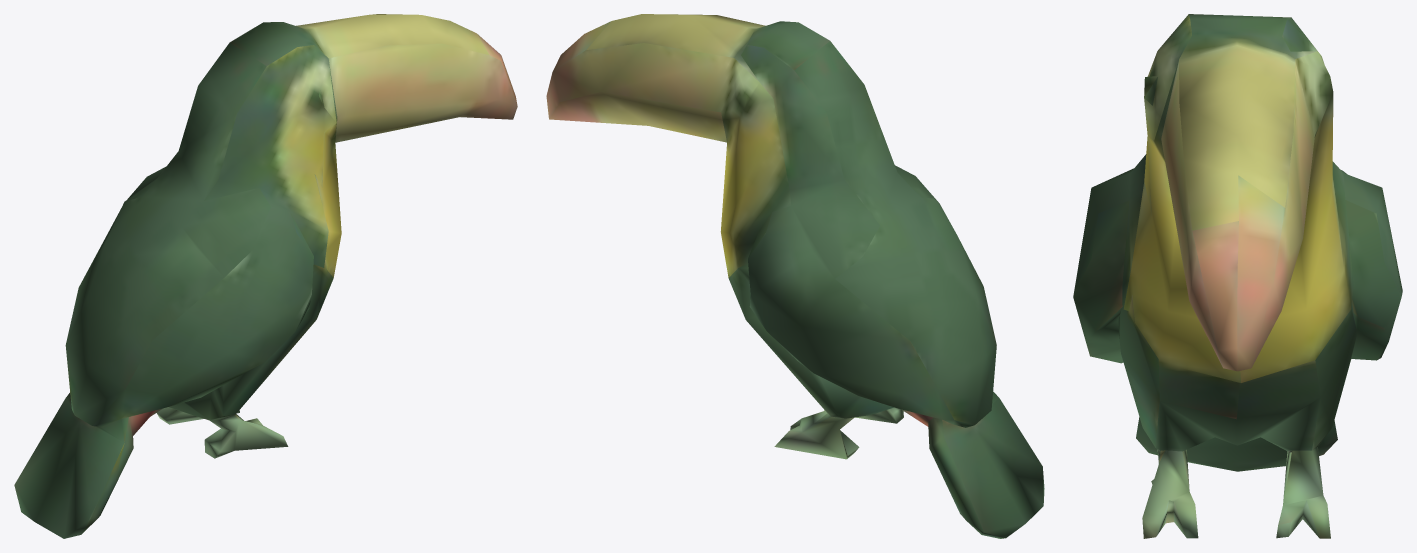
The model's file is keel_billed_toucan-BKhVLpuT.glb.
3 views of the same model, side by side, from view 1: azimuth 30°, elevation 25°; view 2: azimuth 150°, elevation 25°; view 3: azimuth 270°, elevation 25° (orthographic). The views are drawn at different scales.
Visible parts, largest first — view 1: geom0; view 2: geom0; view 3: geom0.
Boxes of the visible parts, box(x1,y1,x2,y2) form: geom0: box(14, 14, 517, 538); geom0: box(546, 14, 1044, 538); geom0: box(1073, 14, 1402, 538).
Bounding box in the file's own units: 1.01 × 0.8695 × 0.4251.
1 material, 1 textured.
